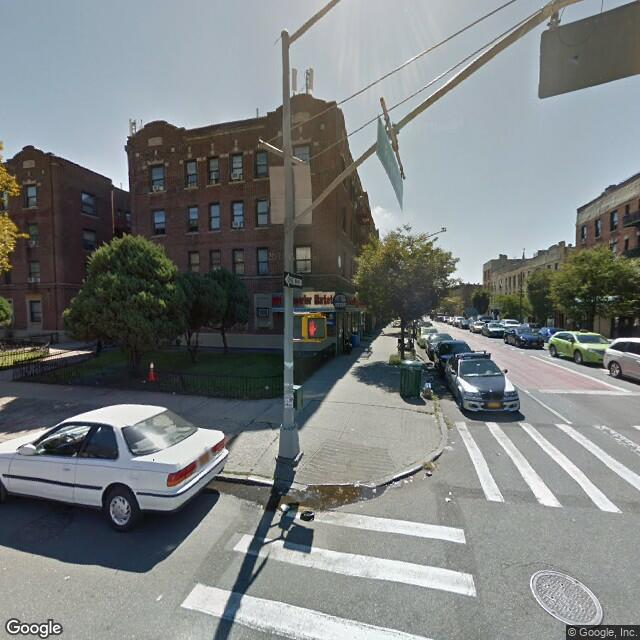litter: (301, 510, 316, 520), (424, 383, 432, 396), (444, 497, 455, 503), (426, 470, 435, 477), (264, 384, 273, 390), (447, 489, 454, 496), (371, 485, 378, 492), (281, 504, 289, 510), (403, 477, 408, 483), (448, 439, 453, 444), (139, 379, 145, 382), (355, 481, 361, 484), (172, 389, 175, 394), (494, 450, 499, 452)
